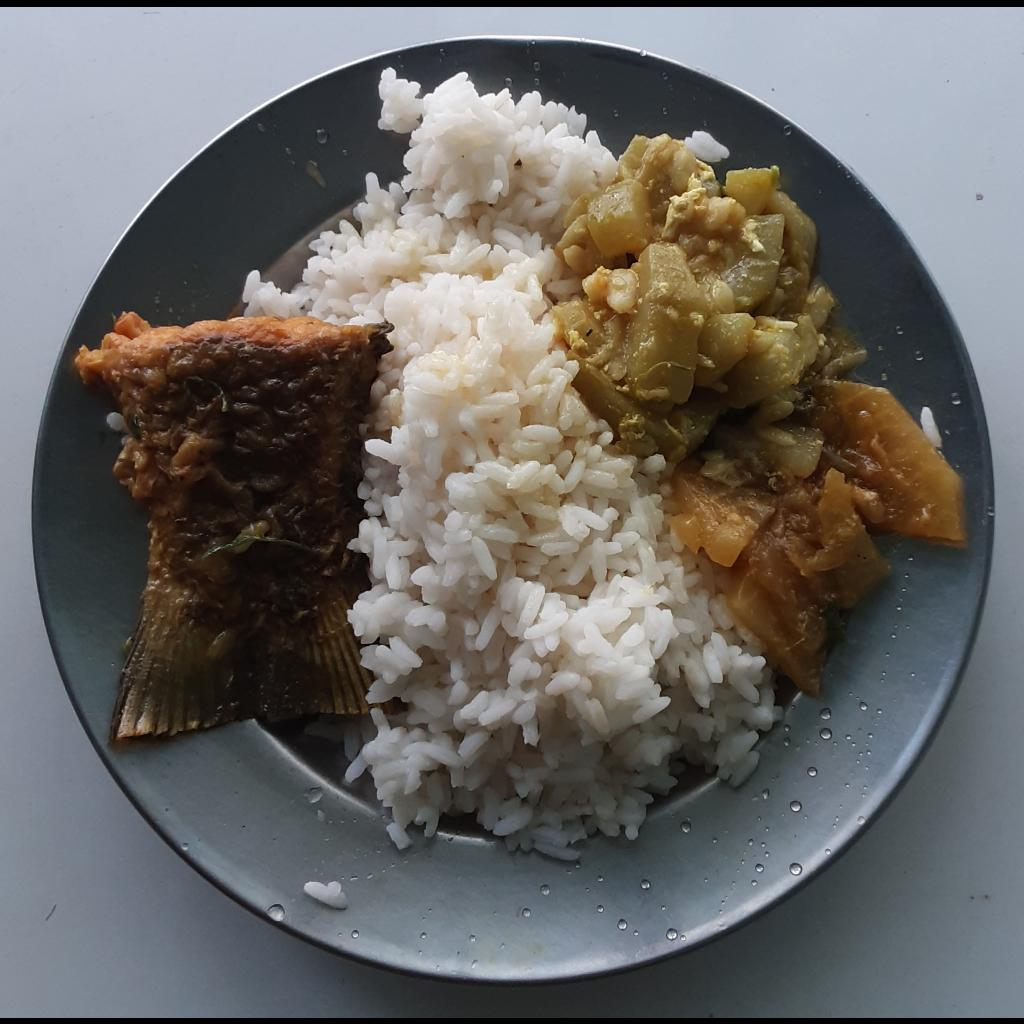dundol: (674, 378, 966, 699)
fish: (70, 310, 389, 751)
lau: (554, 132, 865, 485)
rice: (244, 61, 781, 861)
